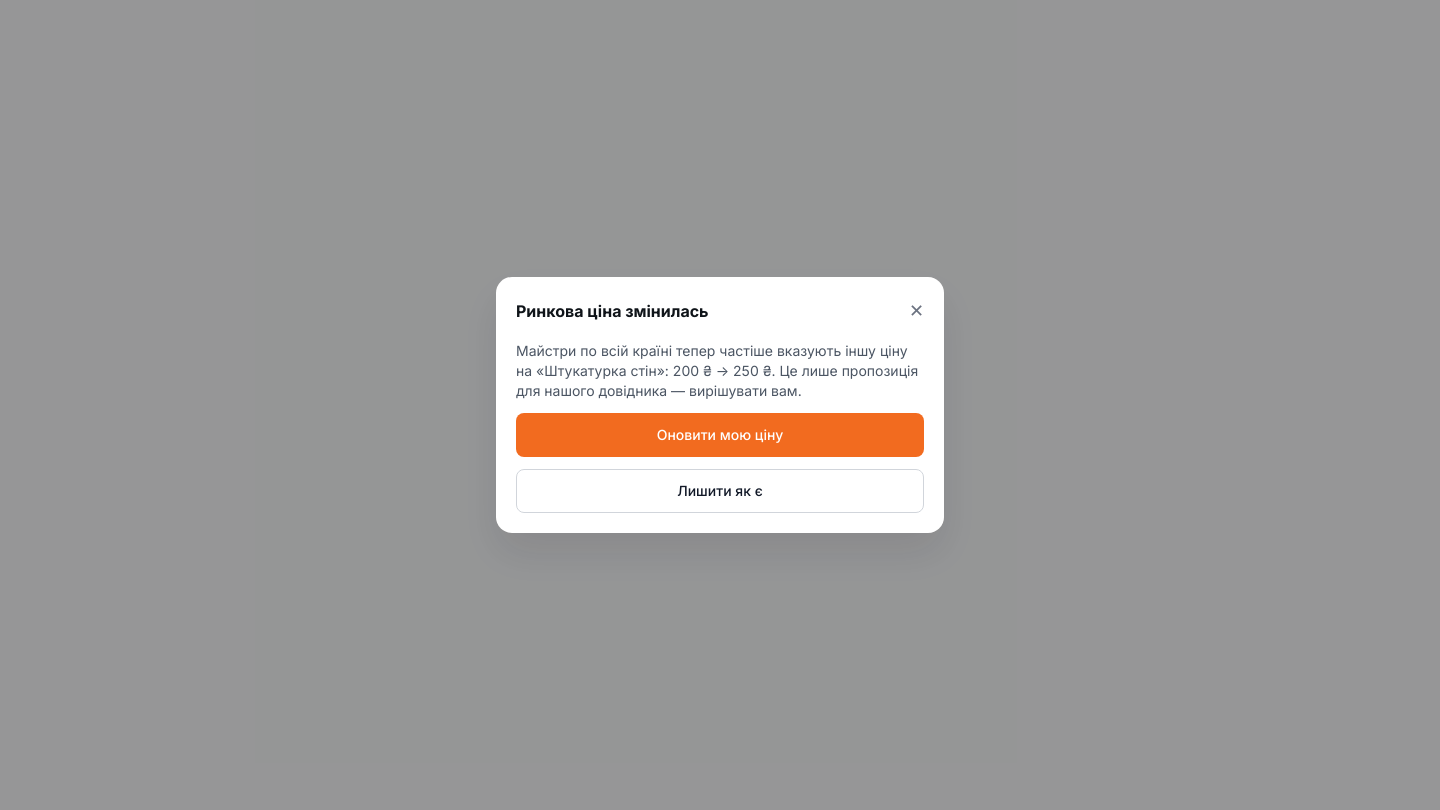
it: CatalogUpdateNotice › ✕ asks first, and «Повернутись» brings the offer back untouched
Expected: the heading "Ринкова ціна змінилась" is shown, top-left (516, 299), bottom-right (709, 323)
Click the button "✕".
click(916, 311)  # box top-left (909, 297), bottom-right (924, 325)
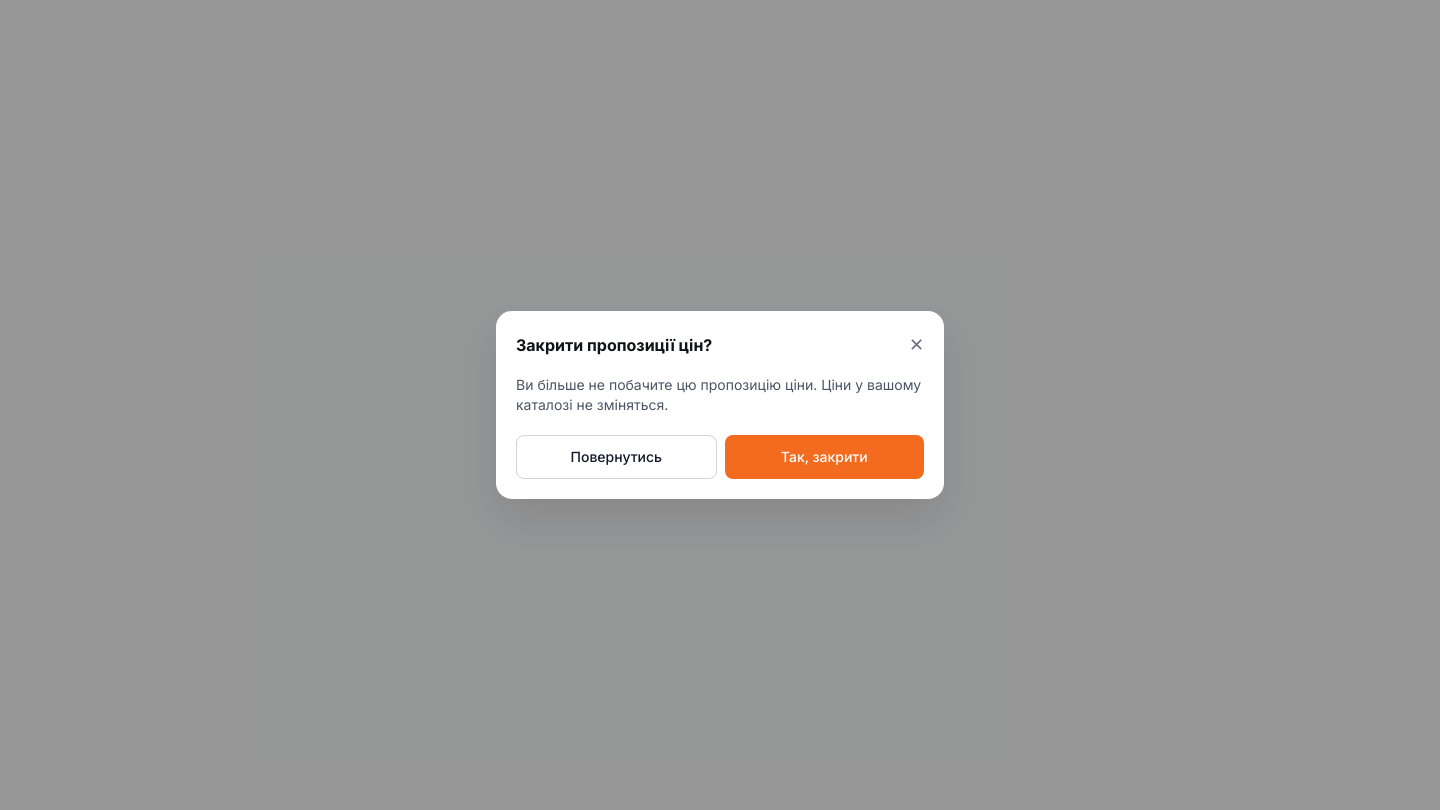
Expected: the heading "Закрити пропозиції цін?" is shown, top-left (516, 333), bottom-right (712, 357)
Expected: the heading "Ринкова ціна змінилась" is gone
Click the button "Повернутись".
click(616, 457)  # box top-left (516, 435), bottom-right (716, 479)
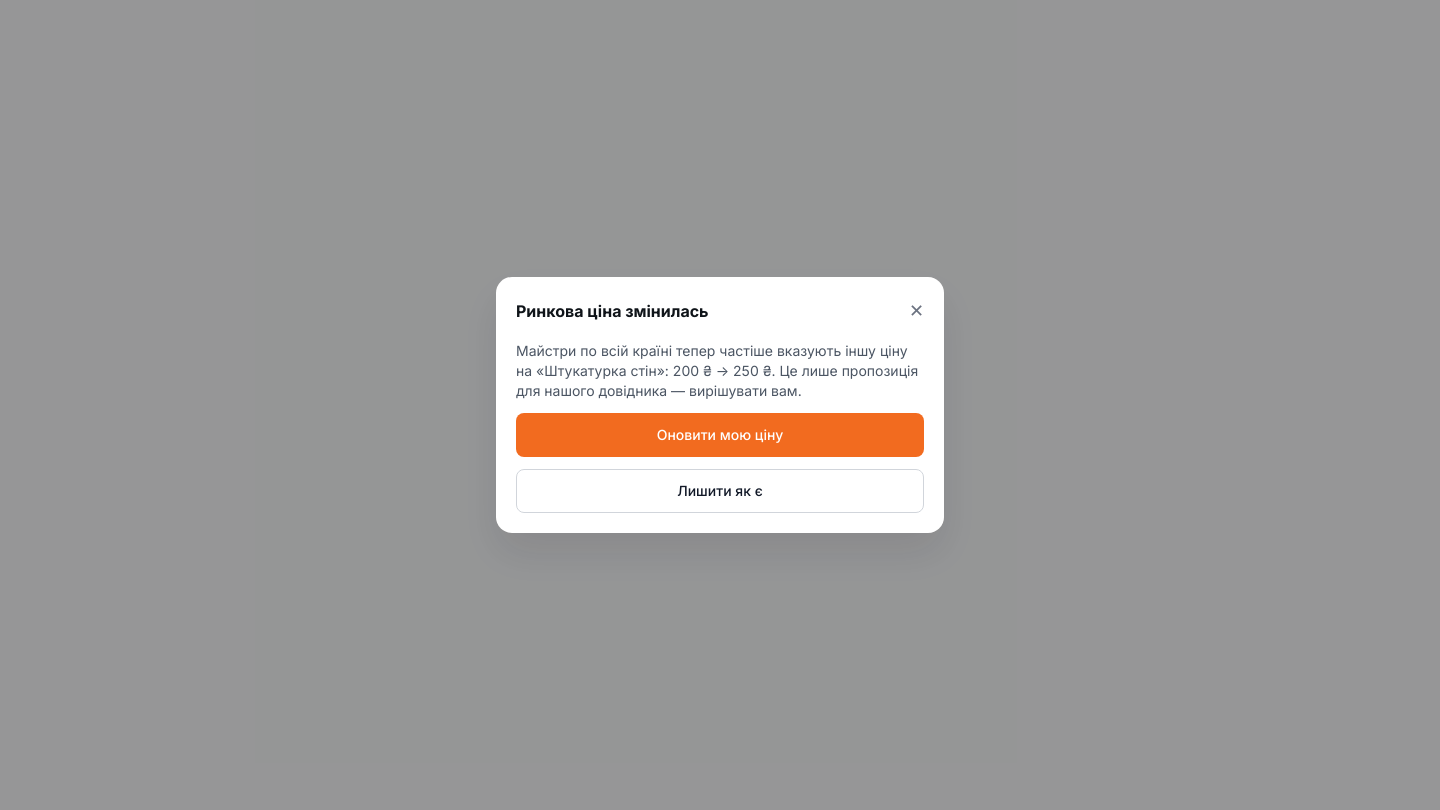
Expected: the heading "Ринкова ціна змінилась" is shown, top-left (516, 299), bottom-right (709, 323)
